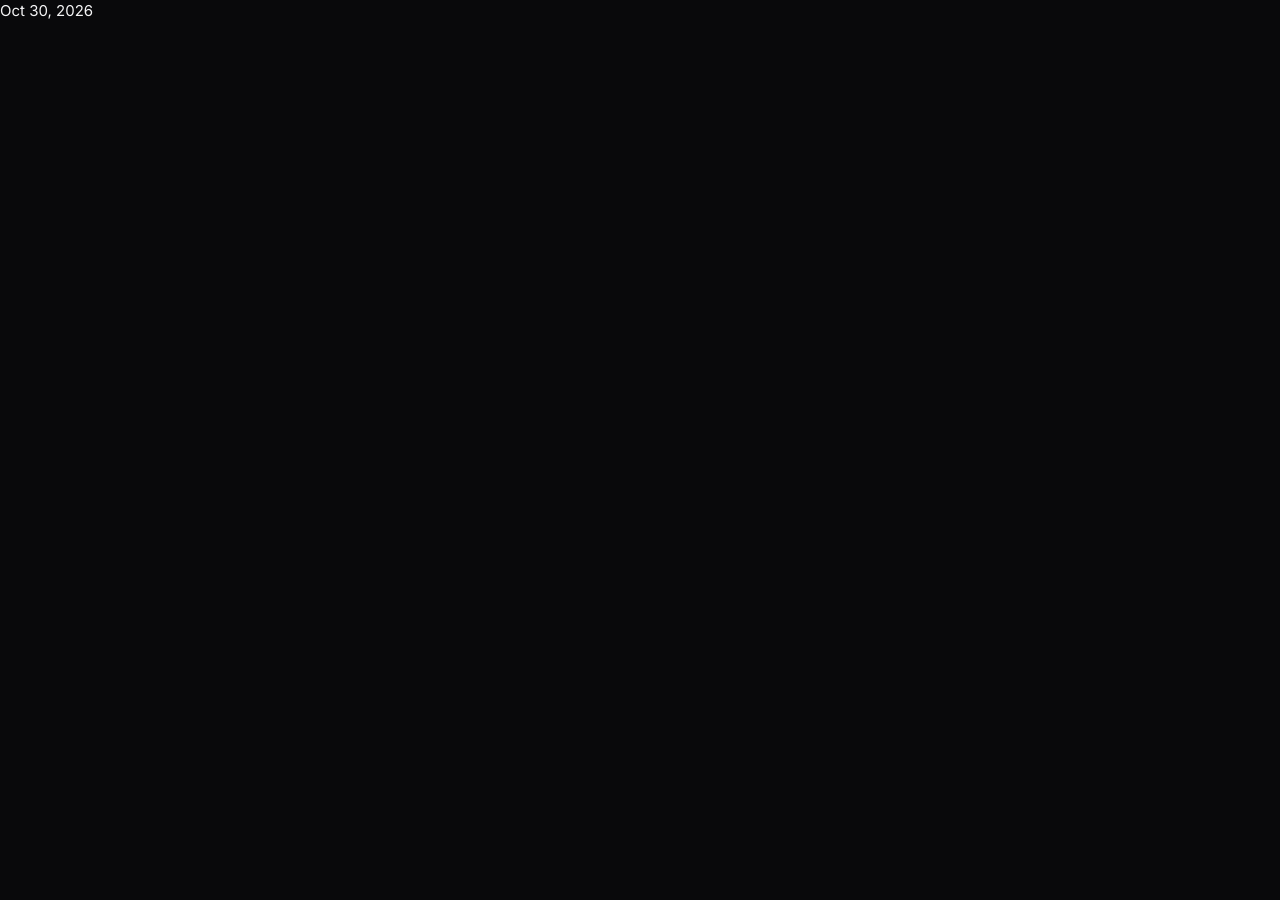
DateCell: the Task date › test remove recurrence asks when history exists and removes the log with it
Later steps or results of the test are not shown.
What coordinates should you click on to do the following:
click the button with aria-label "Edit Date"
I would click on:
 (47, 10)
Its box is [0,0,1279,22].
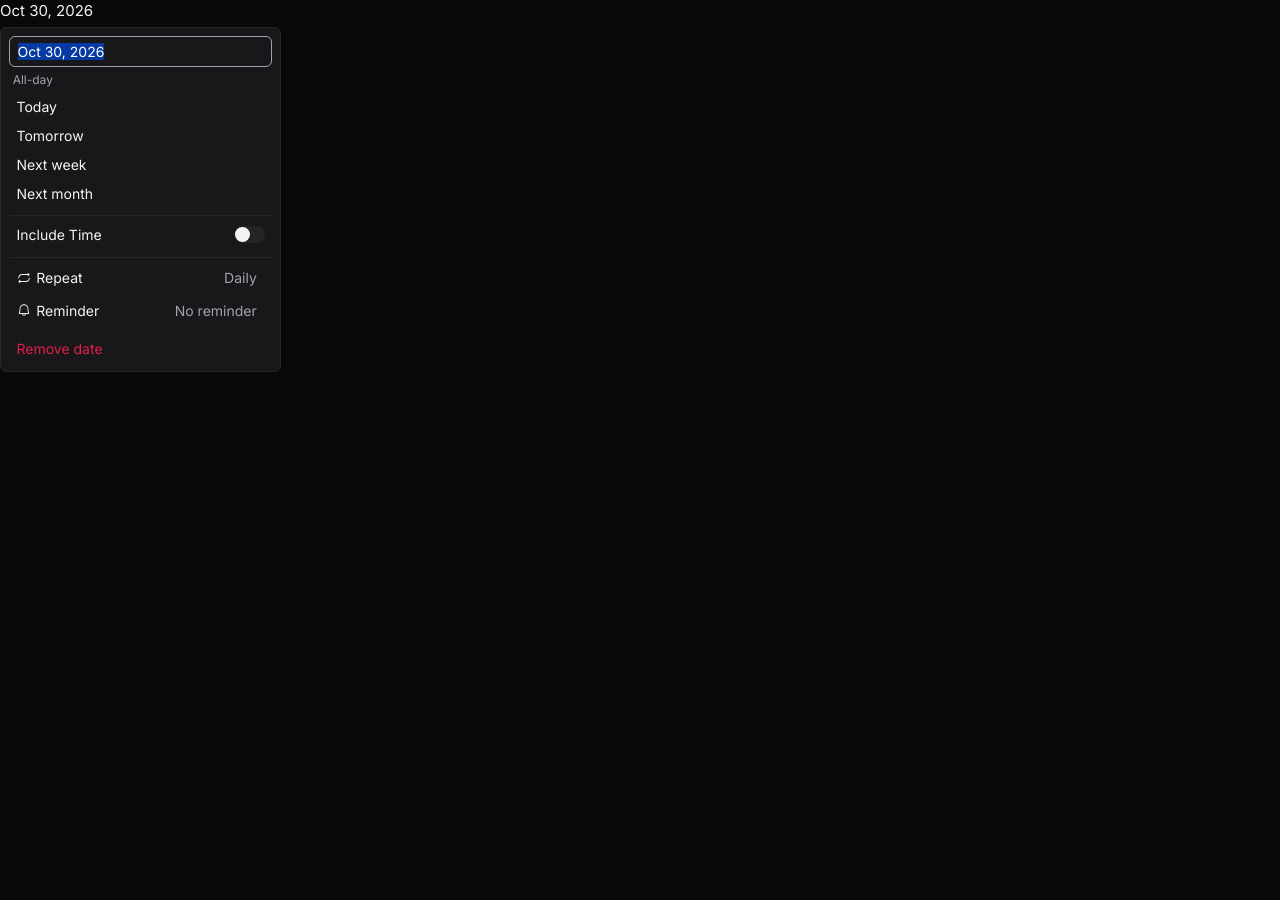
What coordinates should you click on to do the following:
click the button with aria-label "Repeat:"
I would click on:
 (240, 278)
Its box is [216,265,264,290].
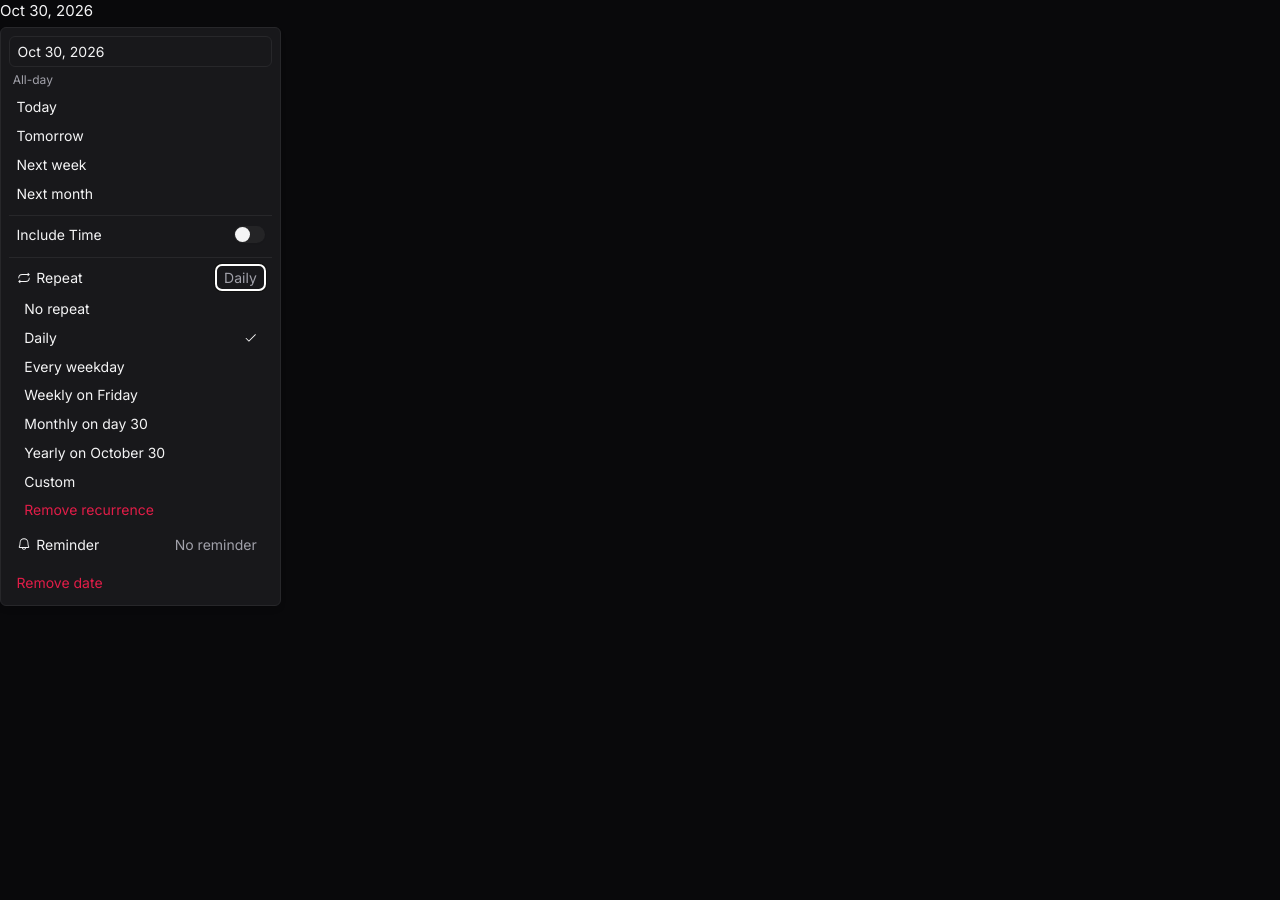
What coordinates should you click on to do the following:
click the menu item "Remove recurrence"
I would click on:
 (140, 510)
Its box is [16,495,264,524].
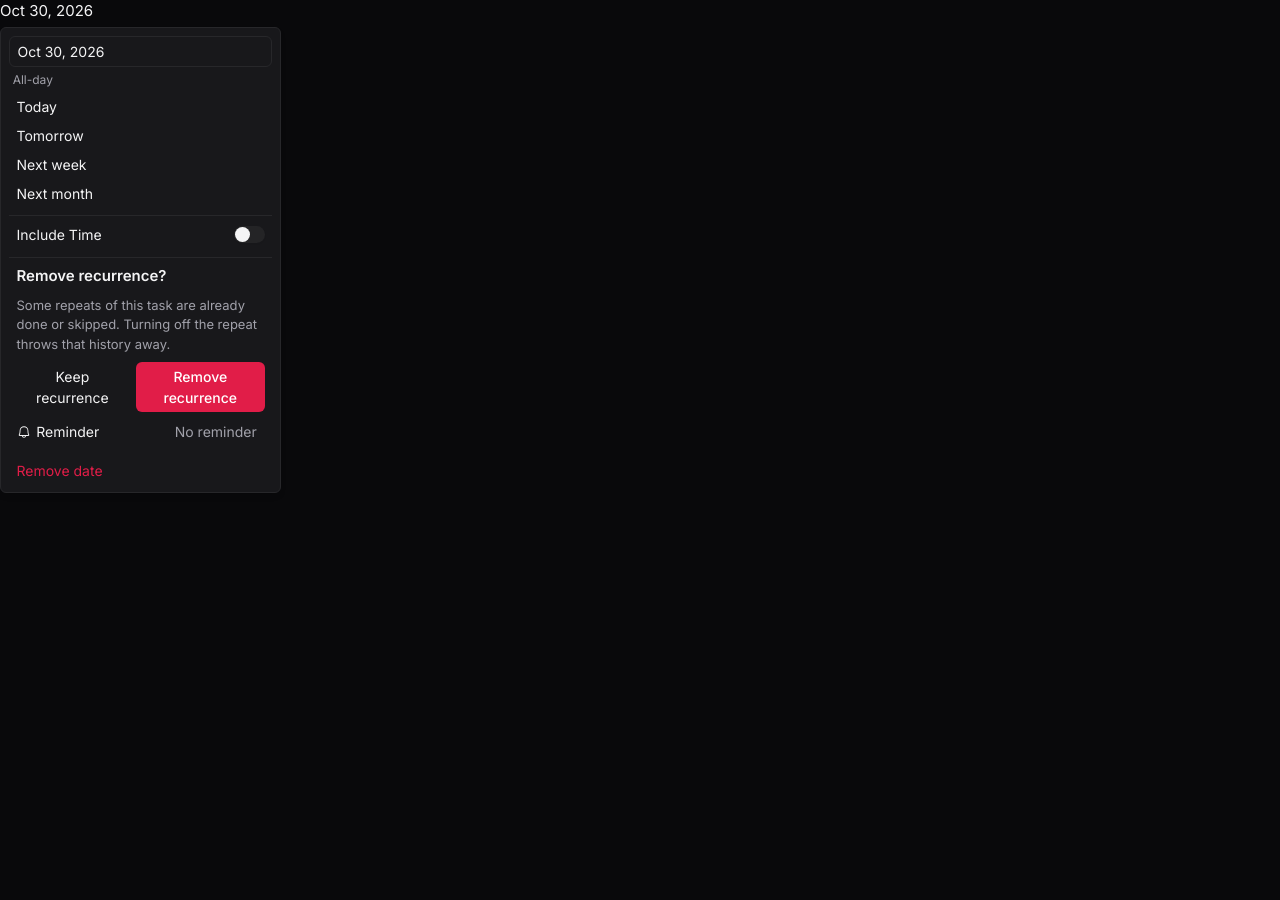
Expected: the dialog "Remove recurrence?" is shown, [9,262,272,416]
